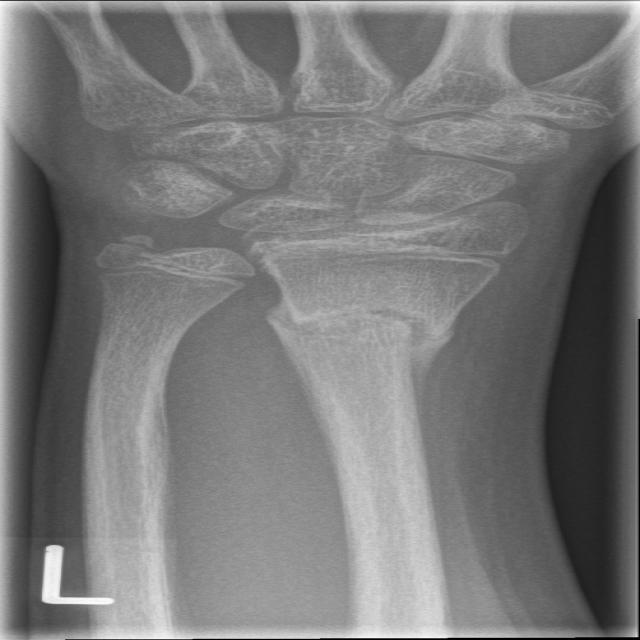radius fracture: (248, 289, 485, 379)
ulna fracture: (86, 228, 225, 285)
